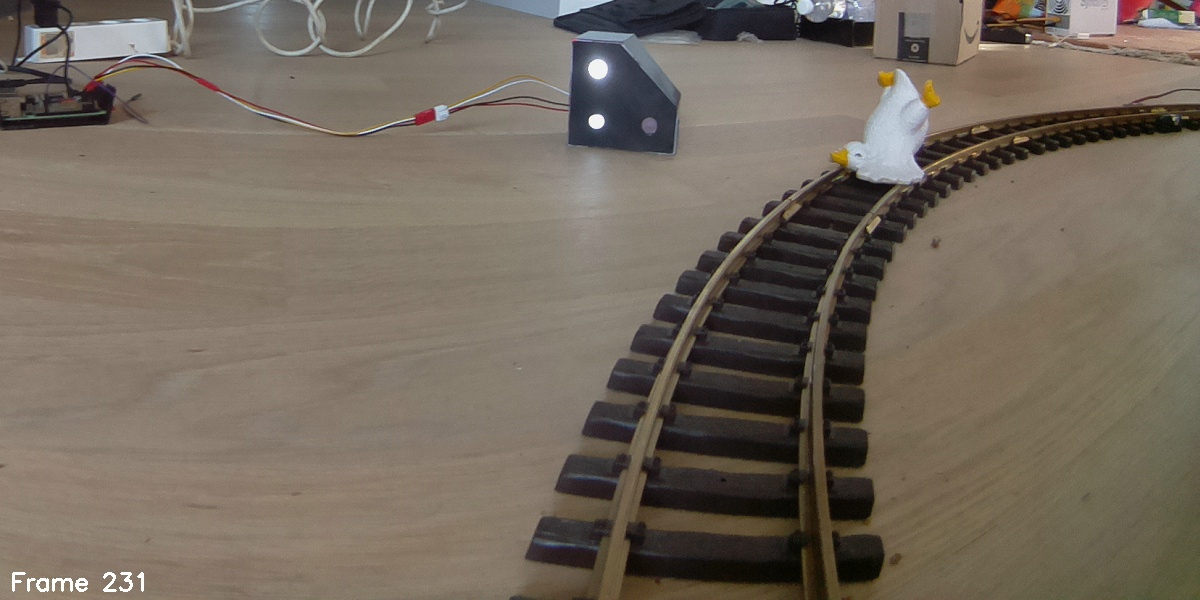Ente: (826, 65, 946, 194)
Fahrt: (567, 29, 681, 157)
